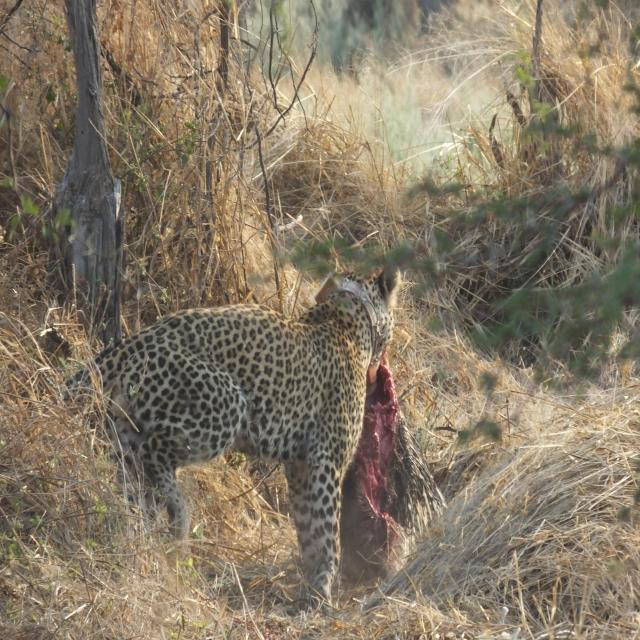Leopard: (37, 264, 401, 615)
